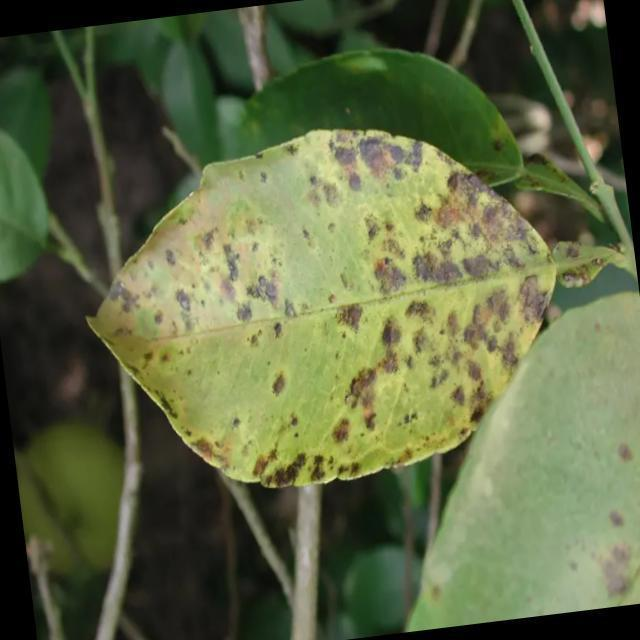Bacterial Spot: (143, 114, 561, 483)
